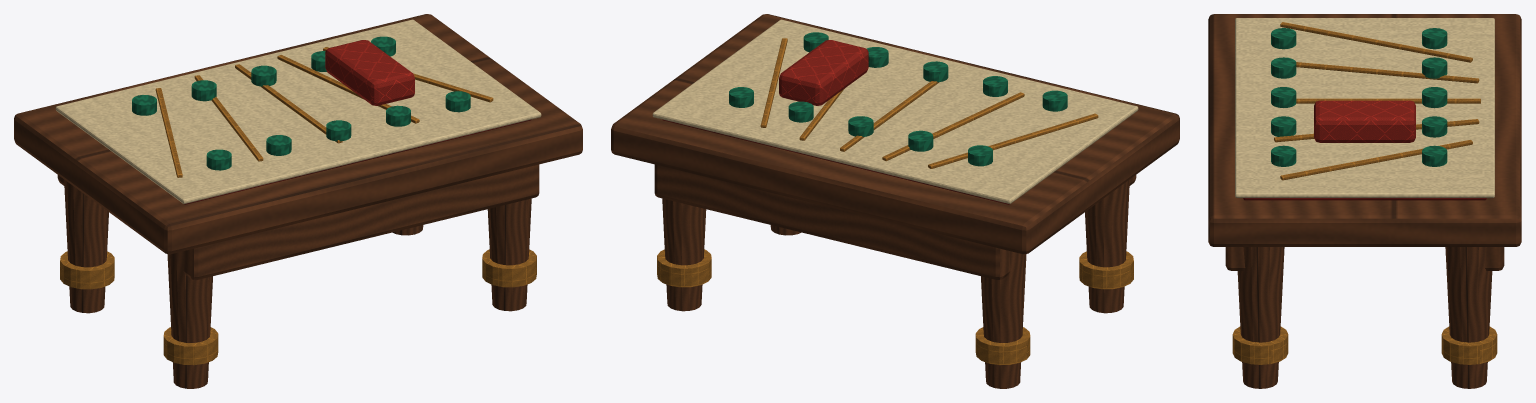
The model's file is guild_map_table.glb.
3 renders of one model, left to right at view 1: azimuth 30°, elevation 25°; view 2: azimuth 150°, elevation 25°; view 3: azimuth 270°, elevation 25°, orthographic.
Visible parts, largest first — view 1: guild_map_table_Walnut, guild_map_table_Paper, guild_map_table_Brass, guild_map_table_Jade, guild_map_table_Brocade, guild_map_table_Lacquer; view 2: guild_map_table_Walnut, guild_map_table_Paper, guild_map_table_Brass, guild_map_table_Jade, guild_map_table_Brocade, guild_map_table_Lacquer; view 3: guild_map_table_Walnut, guild_map_table_Paper, guild_map_table_Brass, guild_map_table_Jade, guild_map_table_Brocade, guild_map_table_Lacquer.
Part boxes in pixels (x1=…): guild_map_table_Walnut: x1=14, y1=14, x2=582, y2=388; guild_map_table_Paper: x1=55, y1=19, x2=541, y2=203; guild_map_table_Brass: x1=60, y1=47, x2=536, y2=365; guild_map_table_Jade: x1=132, y1=36, x2=470, y2=170; guild_map_table_Brocade: x1=325, y1=40, x2=414, y2=105; guild_map_table_Lacquer: x1=184, y1=119, x2=531, y2=204; guild_map_table_Walnut: x1=611, y1=14, x2=1179, y2=388; guild_map_table_Paper: x1=652, y1=19, x2=1138, y2=203; guild_map_table_Brass: x1=657, y1=38, x2=1133, y2=365; guild_map_table_Jade: x1=729, y1=32, x2=1067, y2=166; guild_map_table_Brocade: x1=779, y1=40, x2=868, y2=105; guild_map_table_Lacquer: x1=662, y1=119, x2=1009, y2=204; guild_map_table_Walnut: x1=1208, y1=14, x2=1521, y2=388; guild_map_table_Paper: x1=1235, y1=18, x2=1494, y2=197; guild_map_table_Brass: x1=1232, y1=22, x2=1497, y2=364; guild_map_table_Jade: x1=1271, y1=28, x2=1447, y2=166; guild_map_table_Brocade: x1=1314, y1=100, x2=1415, y2=142; guild_map_table_Lacquer: x1=1243, y1=198, x2=1486, y2=200.
Size of the model in its own units: 2.1 by 1.09 by 1.35.
Materials: 6 (6 with a texture image).
